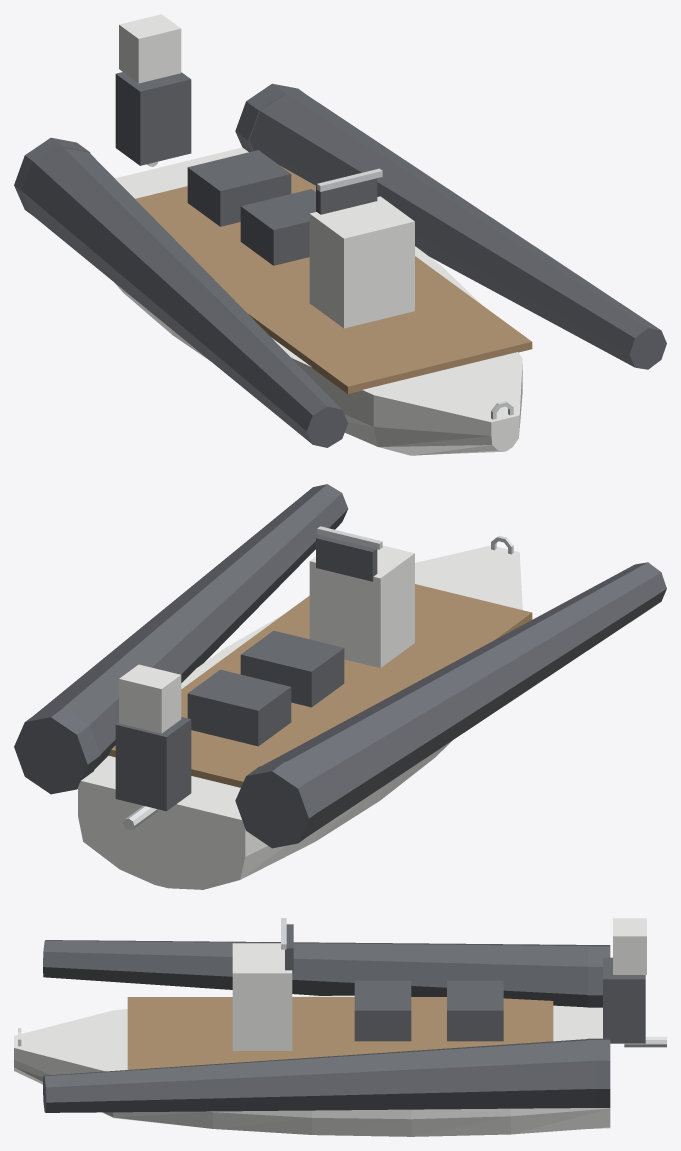
Rendered from PortTender.glb.
3 views of the same model, one above another, from view 1: azimuth 30°, elevation 25°; view 2: azimuth 150°, elevation 25°; view 3: azimuth 270°, elevation 25° (orthographic). The views are drawn at different scales.
Parts seen in each view (by area): view 1: marina-and-yacht-club-rib-tender; view 2: marina-and-yacht-club-rib-tender; view 3: marina-and-yacht-club-rib-tender.
Part boxes in pixels (x1,y1,x2,y2): marina-and-yacht-club-rib-tender: (14,14,666,455); marina-and-yacht-club-rib-tender: (14,484,666,889); marina-and-yacht-club-rib-tender: (14,918,666,1136).
Bounding box in the file's own units: 1.7 × 0.984 × 3.08.
